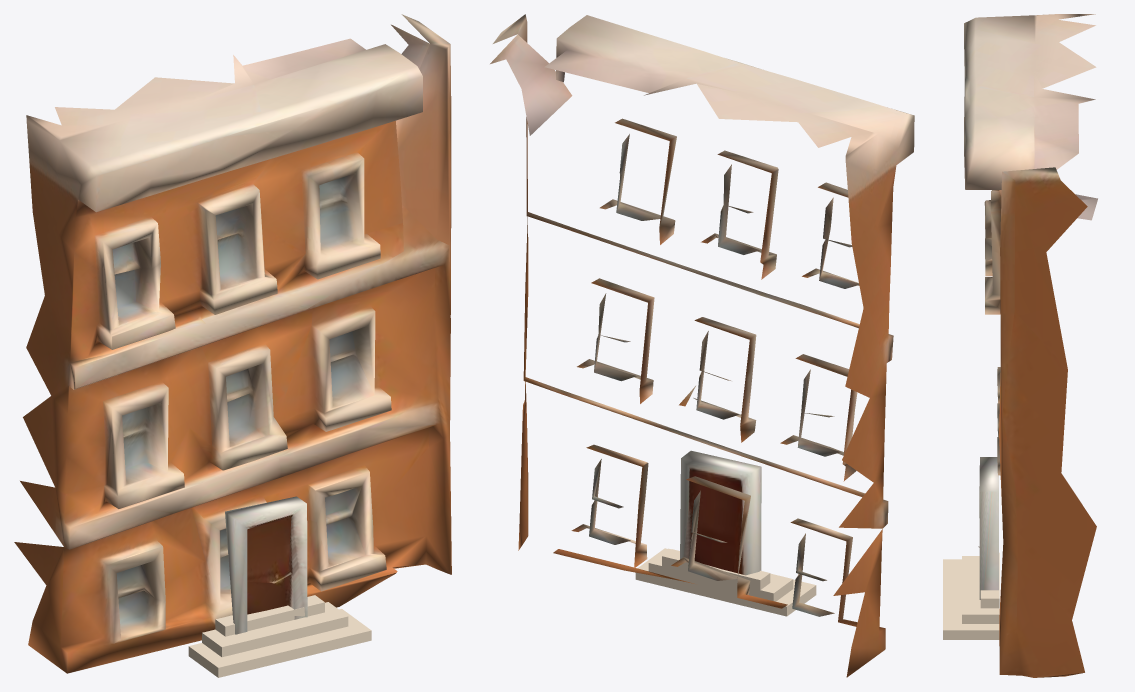
File: row.glb
3 views of the same model, side by side, from view 1: azimuth 30°, elevation 25°; view 2: azimuth 150°, elevation 25°; view 3: azimuth 270°, elevation 25° (orthographic). The views are drawn at different scales.
Parts seen in each view (by area): view 1: tripo_node_01a21d10-2419-755a-9ff6-daed9d414377; view 2: tripo_node_01a21d10-2419-755a-9ff6-daed9d414377; view 3: tripo_node_01a21d10-2419-755a-9ff6-daed9d414377.
Boxes of the visible parts, bbox=[...] form: tripo_node_01a21d10-2419-755a-9ff6-daed9d414377: bbox=[14, 14, 451, 677]; tripo_node_01a21d10-2419-755a-9ff6-daed9d414377: bbox=[490, 14, 914, 677]; tripo_node_01a21d10-2419-755a-9ff6-daed9d414377: bbox=[943, 14, 1097, 677].
Size of the model in its own units: 7 by 9.8 by 3.02.
1 material, 1 textured.
